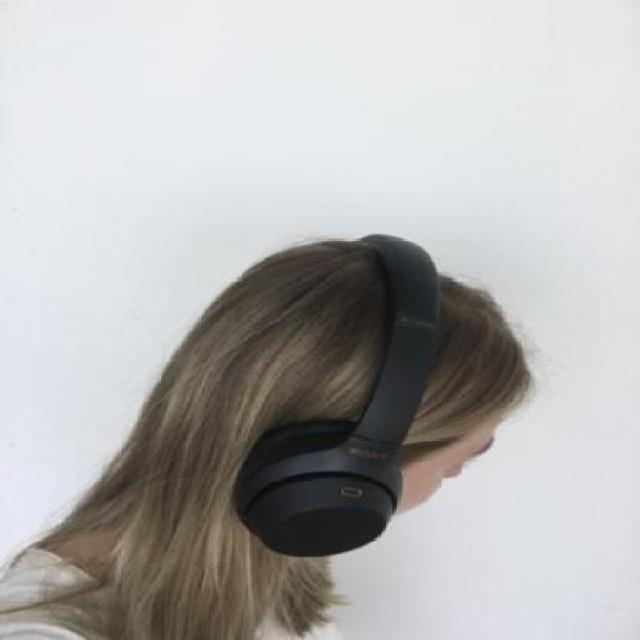earphone: (235, 150, 450, 588)
